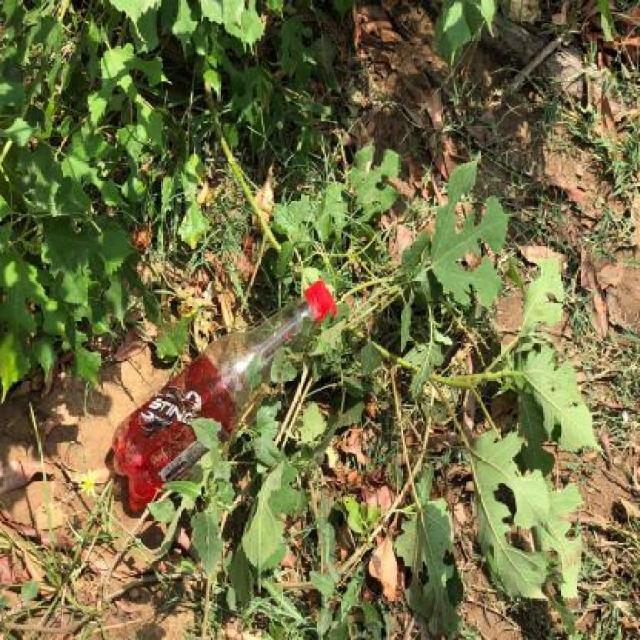garbage: (105, 277, 344, 523)
